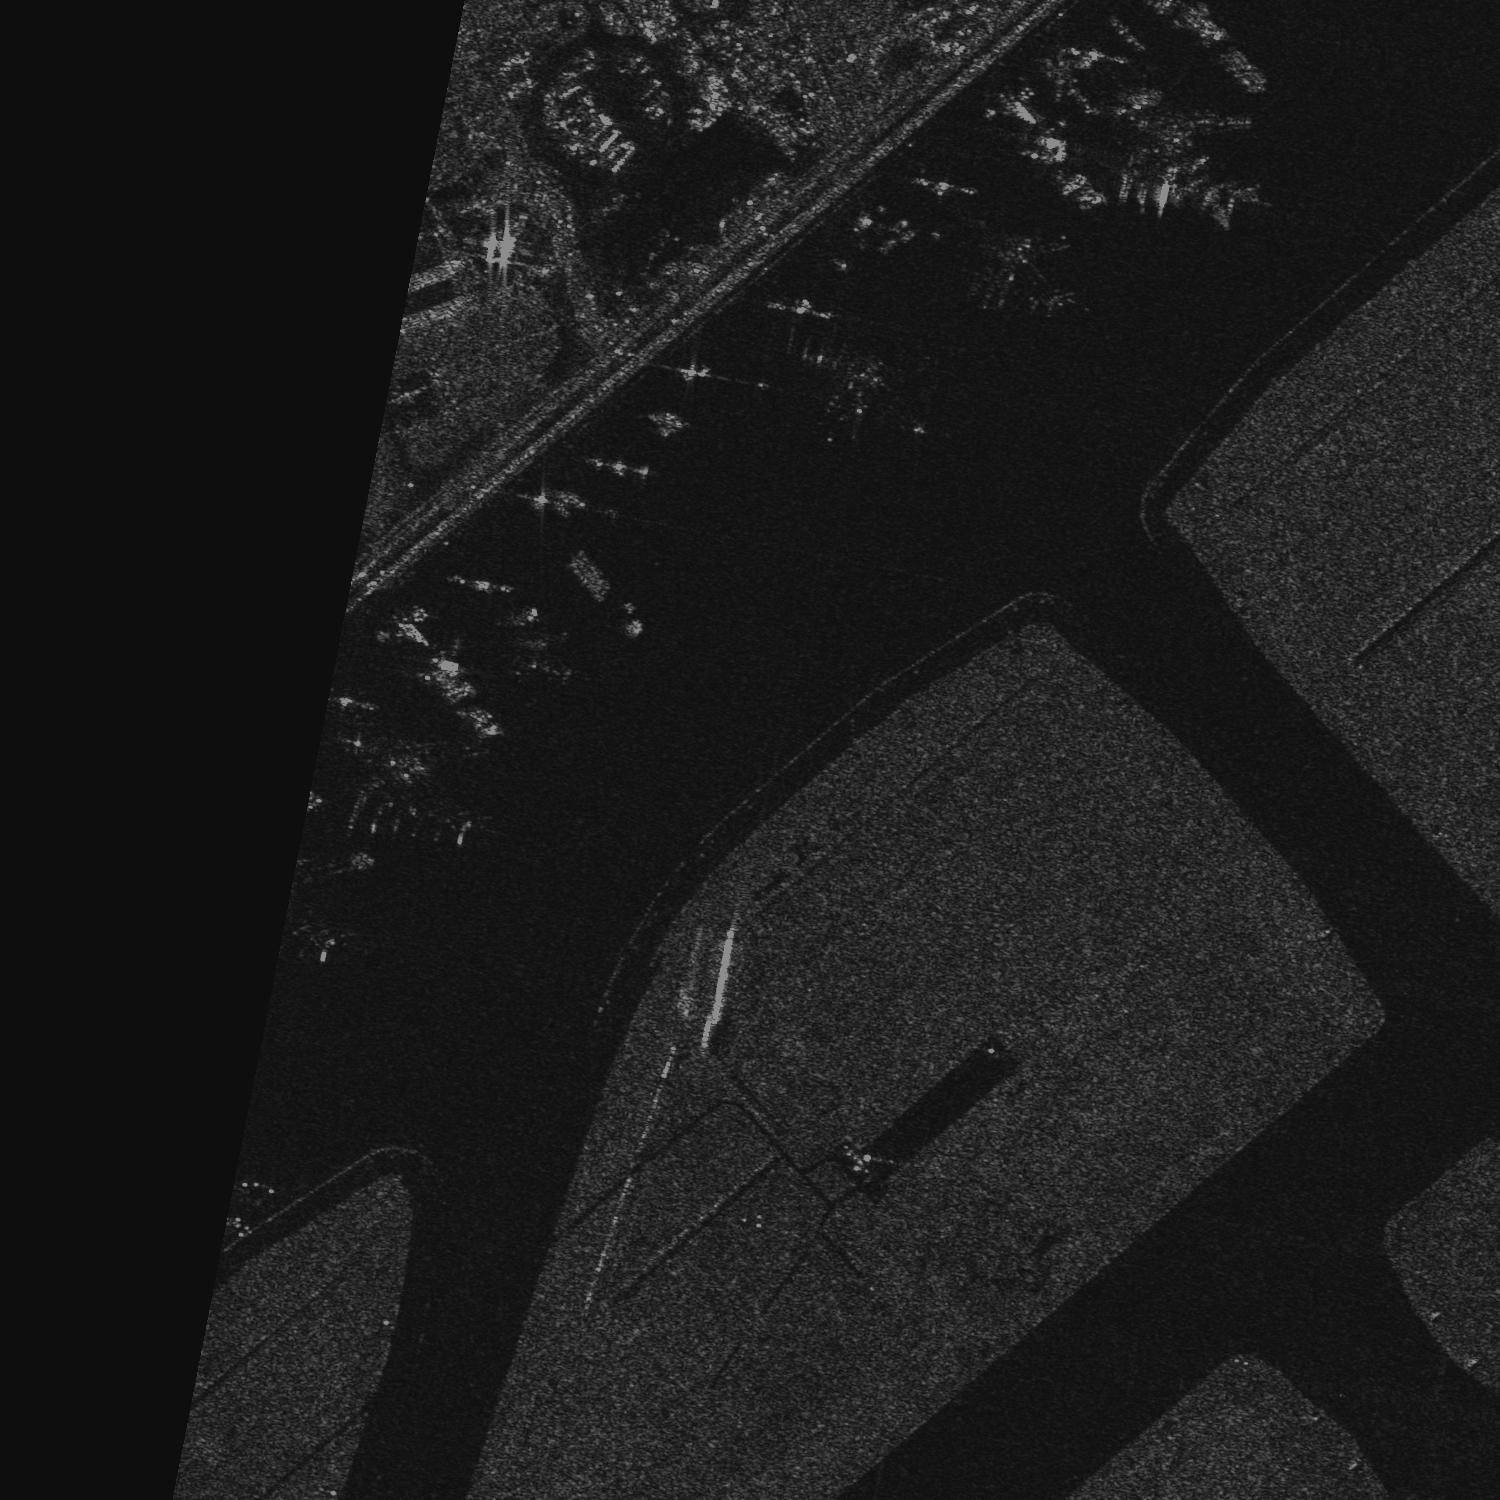Boeing737: (968, 224, 1081, 321)
Boeing787: (337, 717, 496, 854)
other: (1126, 100, 1260, 224), (813, 327, 924, 449), (497, 598, 584, 685)
